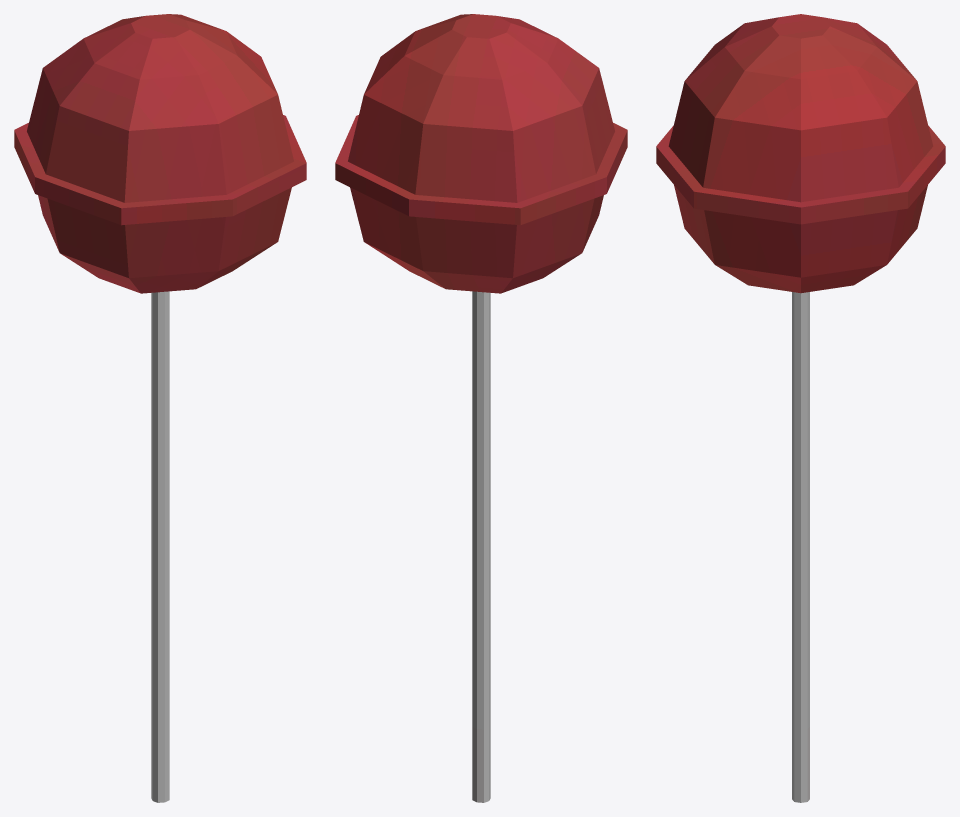
File: lolli.glb
3 views of the same model, side by side, from view 1: azimuth 30°, elevation 25°; view 2: azimuth 150°, elevation 25°; view 3: azimuth 270°, elevation 25° (orthographic).
Parts seen in each view (by area): view 1: node-0; view 2: node-0; view 3: node-0.
Part boxes in pixels (x1,y1,x2,y2): node-0: (14, 14, 306, 802); node-0: (335, 14, 627, 802); node-0: (656, 14, 945, 802).
Size of the model in its own units: 0.562 by 1.65 by 0.562.
Materials: 2 (2 with a texture image).
